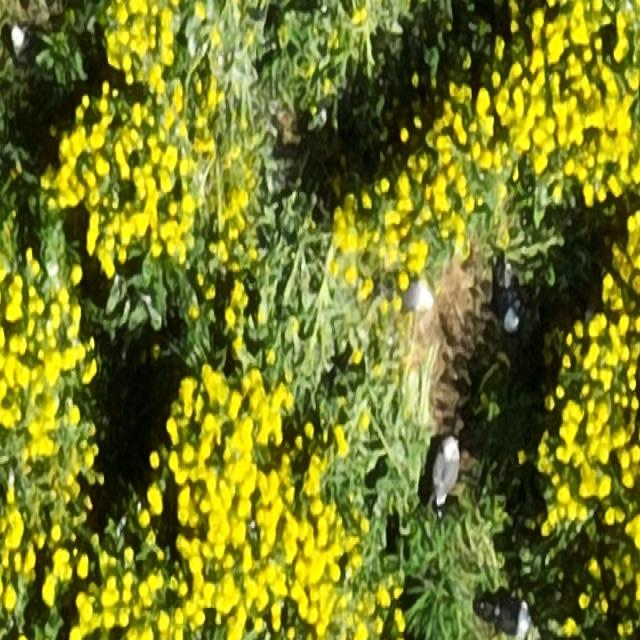umineko: (498, 268, 522, 332), (434, 443, 459, 501), (398, 284, 440, 308), (8, 19, 36, 53)
